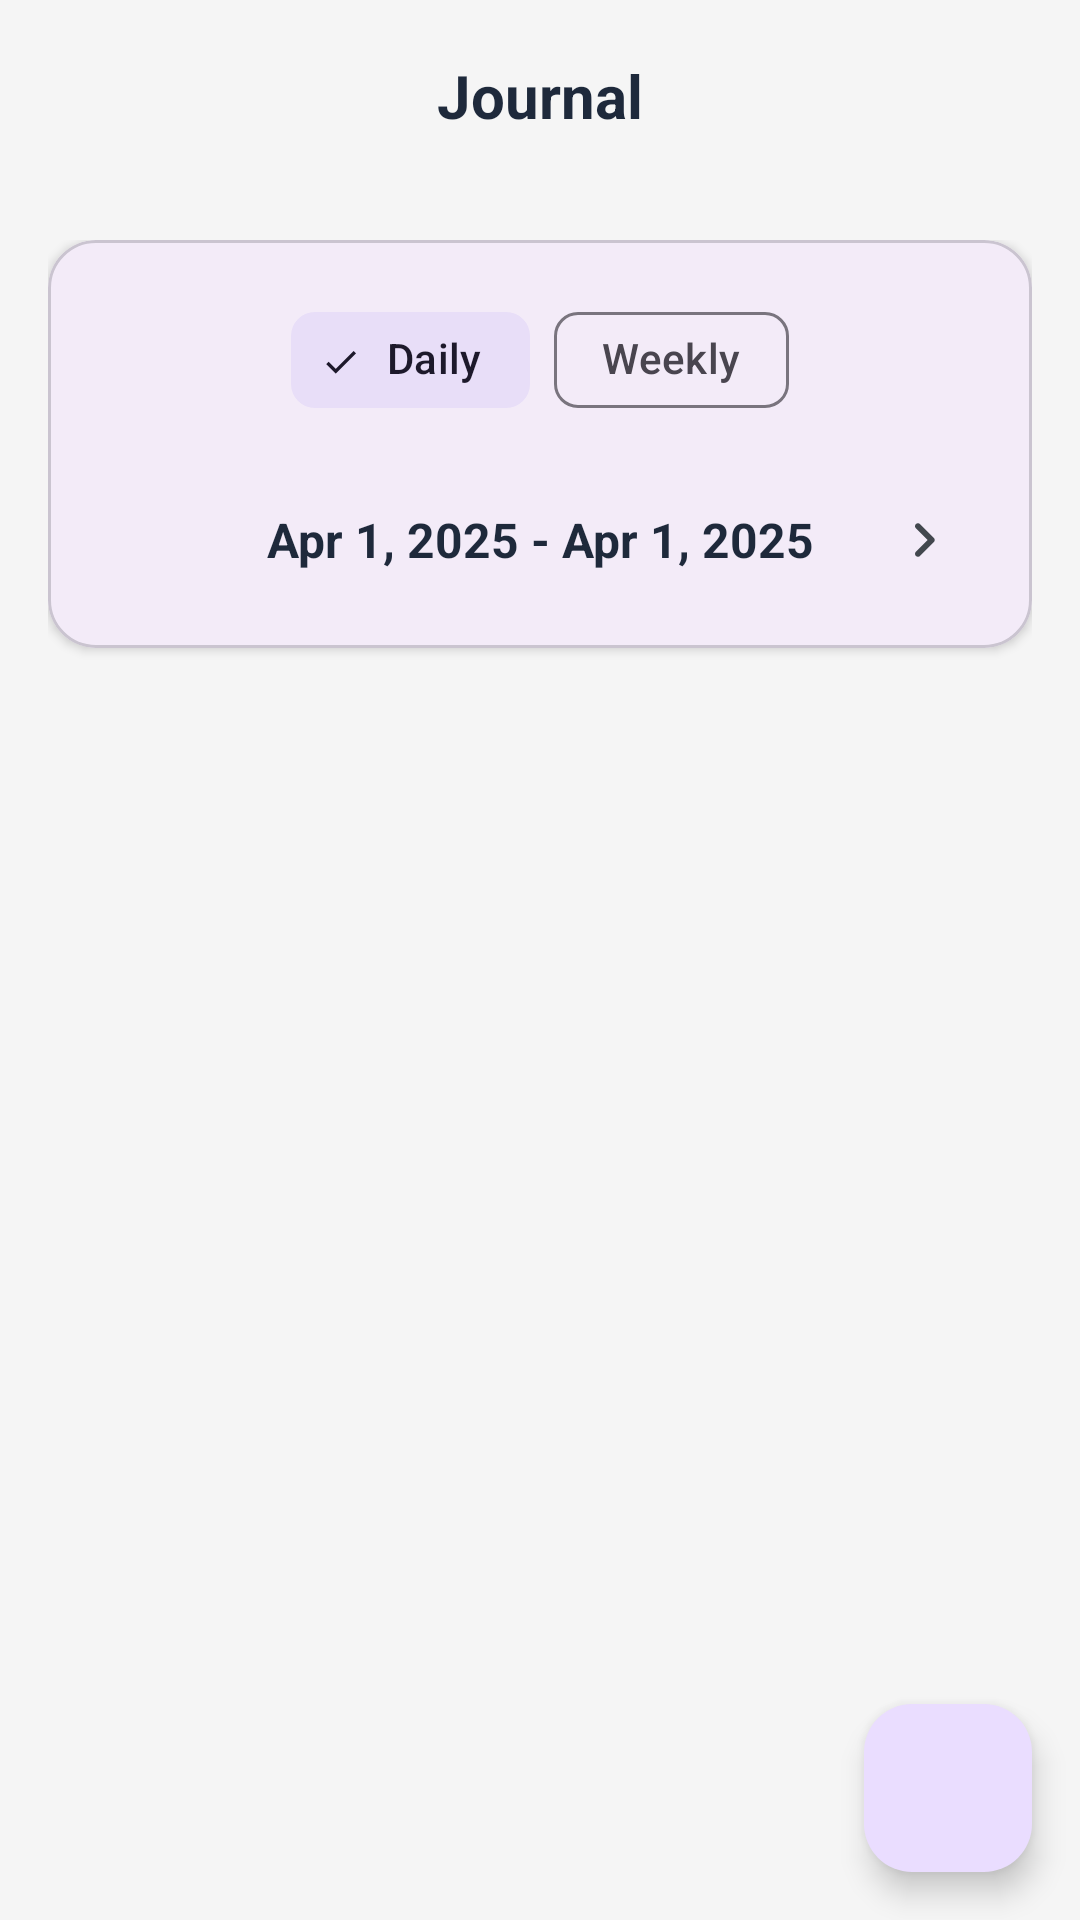

Screen size 1080*1920. Icon name, then its center in pixels as (x=x, y=y):
Next: (x=925, y=540)
